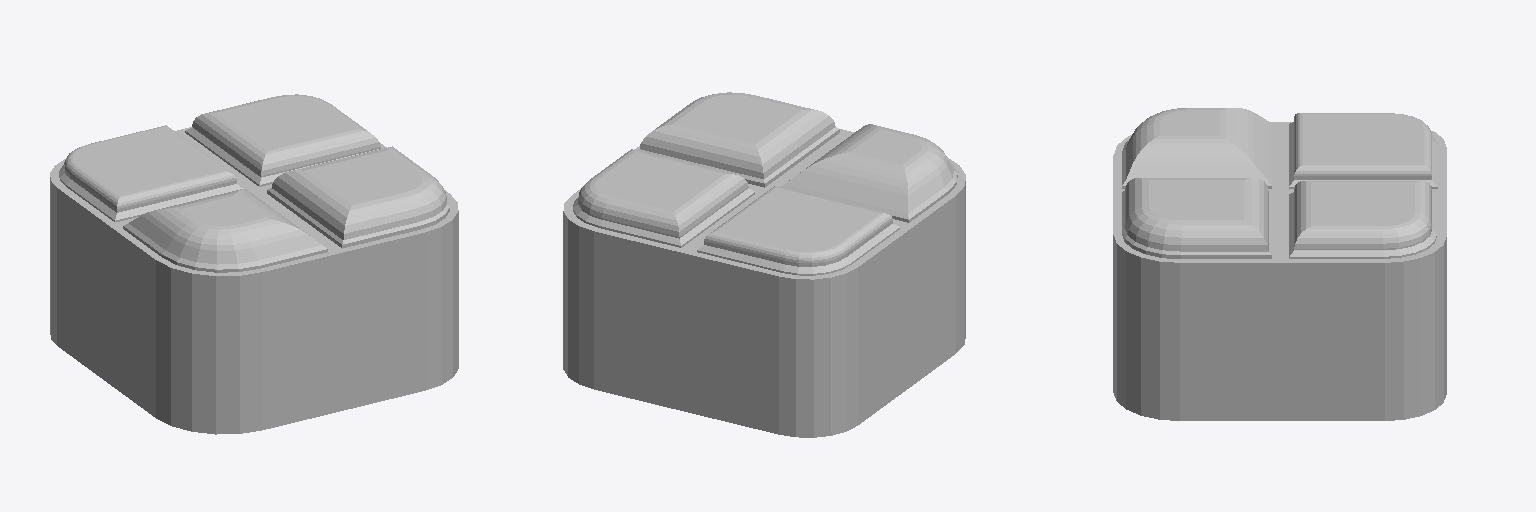
The model's file is battery.obj.
3 views of the same model, side by side, from view 1: azimuth 30°, elevation 25°; view 2: azimuth 150°, elevation 25°; view 3: azimuth 270°, elevation 25° (orthographic).
Parts seen in each view (by area): view 1: Cube; view 2: Cube; view 3: Cube.
Part boxes in pixels (bbox=[...]): Cube: bbox=[50, 94, 458, 434]; Cube: bbox=[563, 92, 965, 437]; Cube: bbox=[1113, 108, 1446, 420].
Bounding box in the file's own units: 0.9181 × 0.5765 × 0.9181.